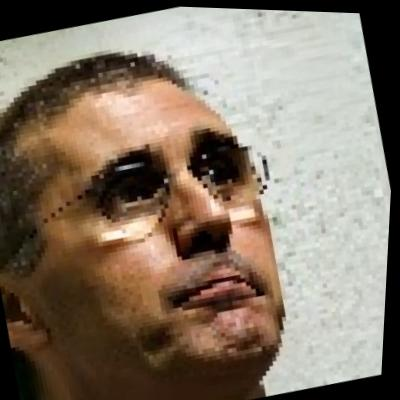sad: (0, 29, 328, 400)
